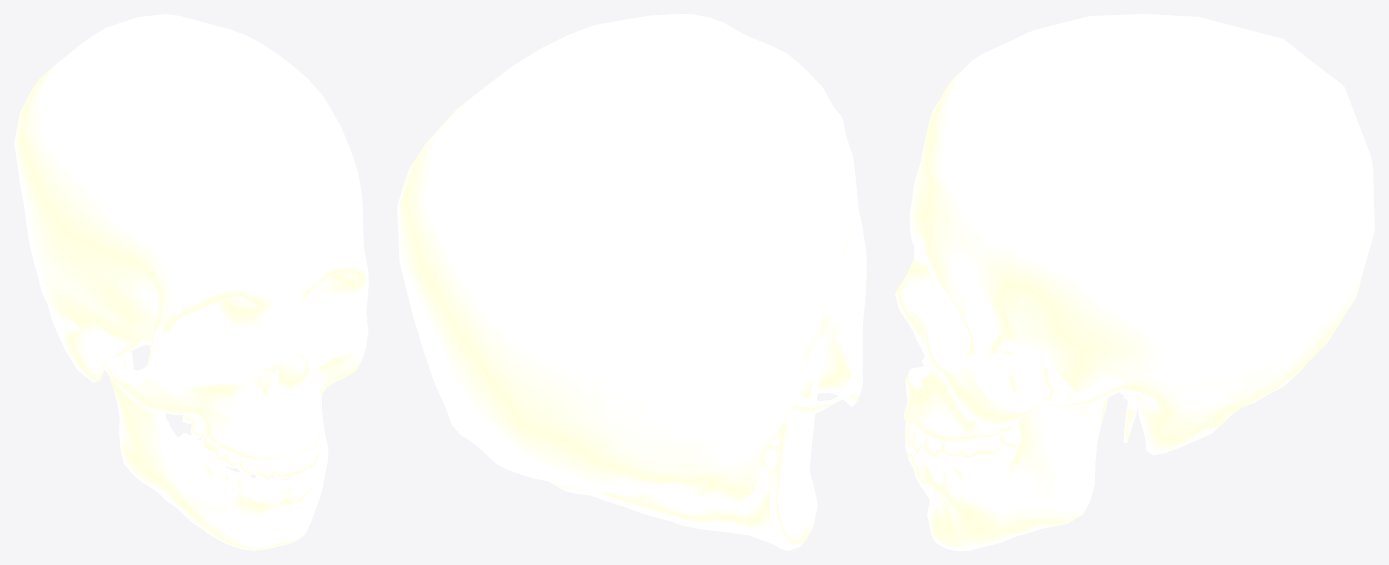
The model's file is Crane.glb.
3 renders of one model, left to right at view 1: azimuth 30°, elevation 25°; view 2: azimuth 150°, elevation 25°; view 3: azimuth 270°, elevation 25°, orthographic. The views are drawn at different scales.
Parts seen in each view (by area): view 1: Dientes.002; view 2: Dientes.002; view 3: Dientes.002.
Part boxes in pixels (bbox=[...]): Dientes.002: bbox=[14, 14, 368, 550]; Dientes.002: bbox=[397, 14, 866, 550]; Dientes.002: bbox=[895, 14, 1374, 550].
Size of the model in its own units: 477 by 728 by 620.
